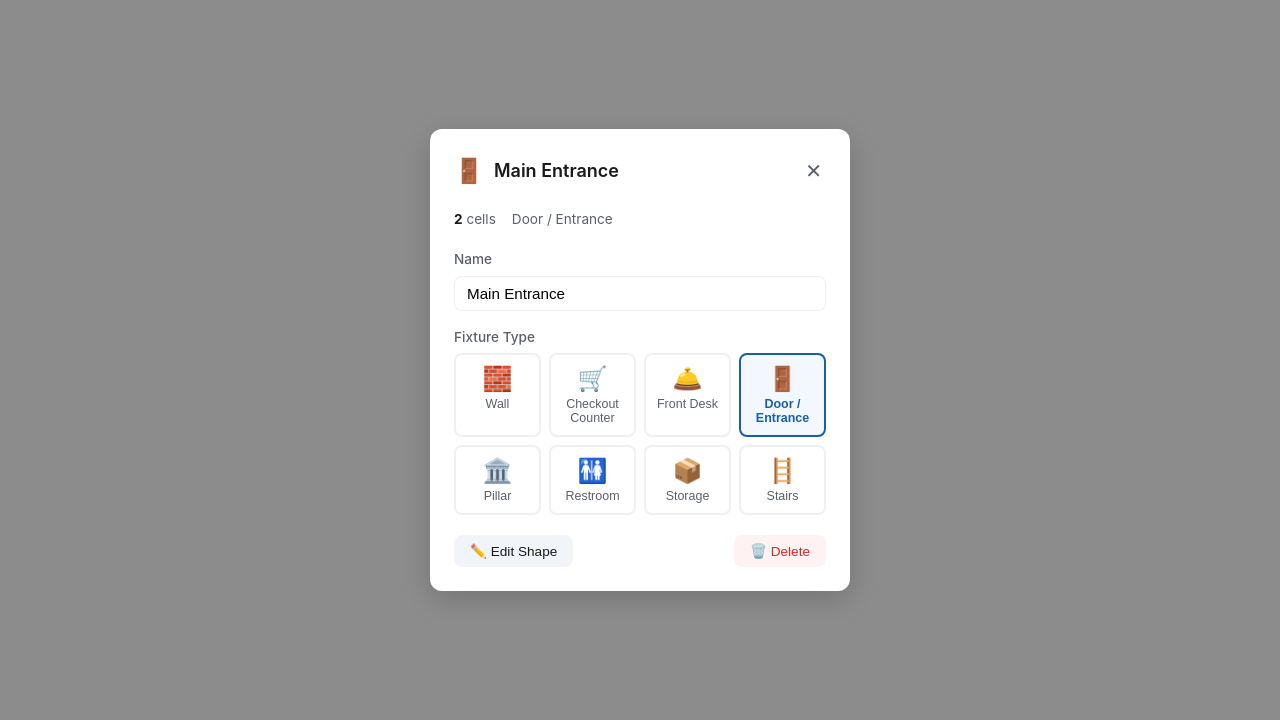
Test: FixtureDetailModal › shows delete confirmation
Step 1. Click the button "🗑️ Delete" → (780, 551), box 734,535 -> 826,567
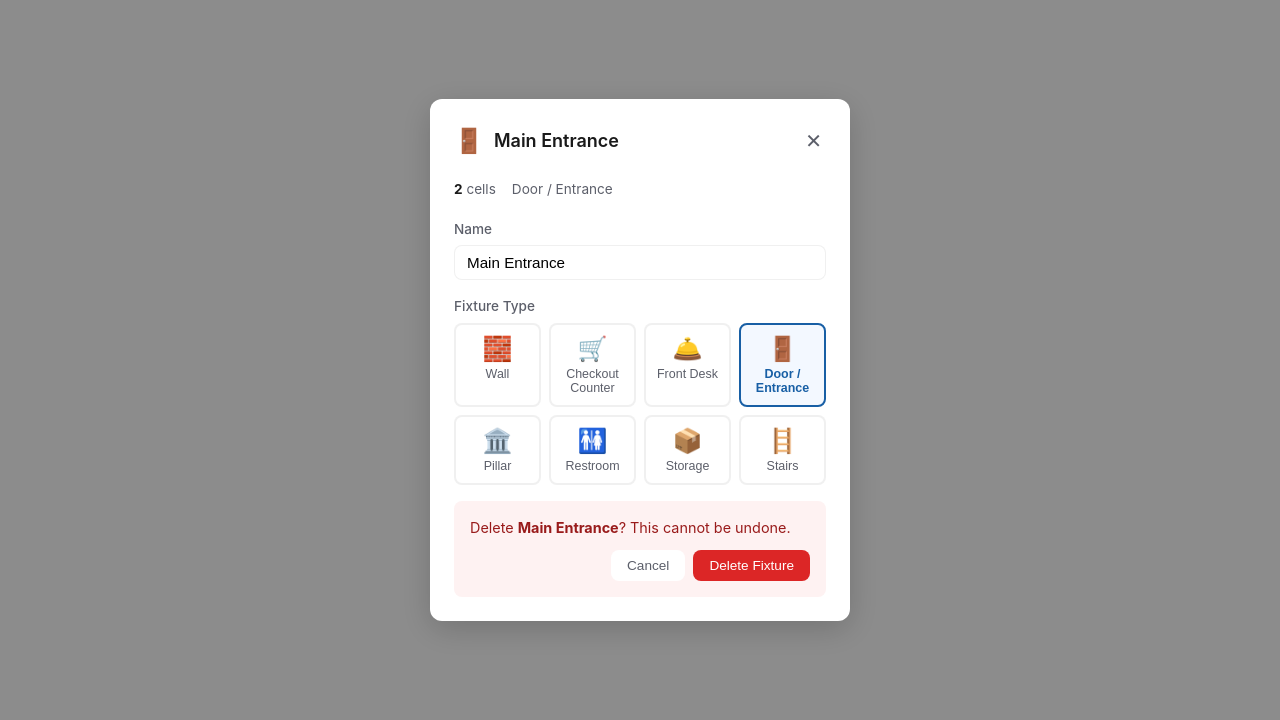
Expected: the text "Delete Main Entrance? This cannot be undone." is shown, 470,517 -> 810,538
Expected: the button "Delete Fixture" is shown, 693,550 -> 810,581
